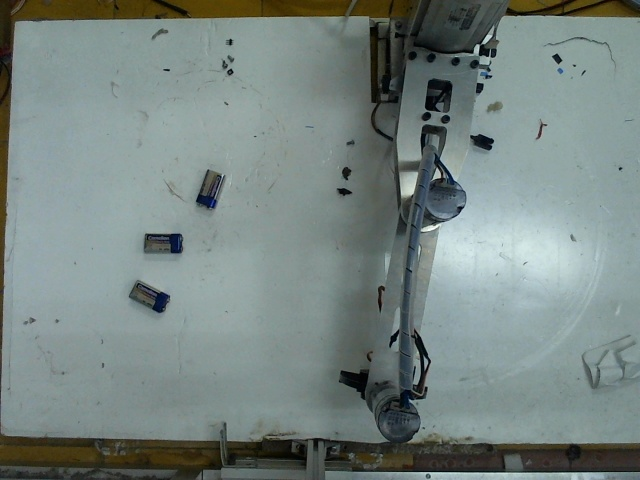battery: (133, 227, 188, 257), (127, 281, 177, 314), (193, 164, 225, 205)
